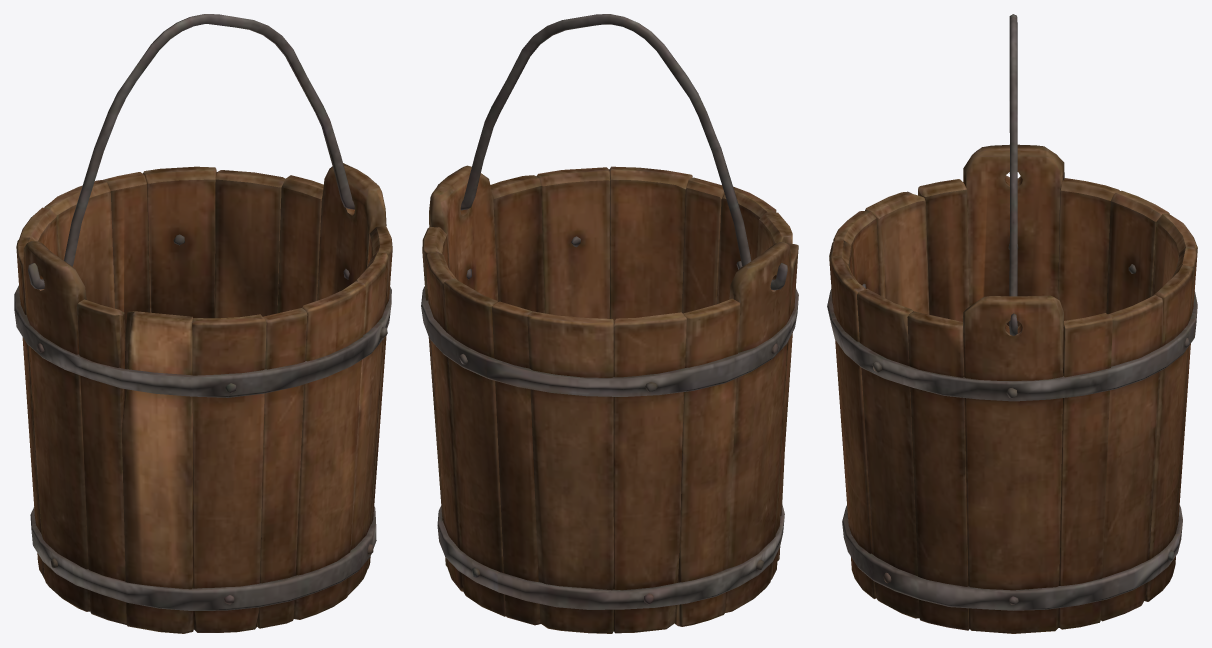
Rendered from wooden_bucket_01.glb.
3 views of the same model, side by side, from view 1: azimuth 30°, elevation 25°; view 2: azimuth 150°, elevation 25°; view 3: azimuth 270°, elevation 25° (orthographic).
Parts seen in each view (by area): view 1: wooden_bucket_01, wooden_bucket_01_handle; view 2: wooden_bucket_01, wooden_bucket_01_handle; view 3: wooden_bucket_01, wooden_bucket_01_handle.
Boxes of the visible parts, bbox=[...] form: wooden_bucket_01: bbox=[14, 163, 392, 633]; wooden_bucket_01_handle: bbox=[28, 14, 376, 289]; wooden_bucket_01: bbox=[421, 165, 798, 633]; wooden_bucket_01_handle: bbox=[437, 14, 787, 290]; wooden_bucket_01: bbox=[827, 144, 1197, 633]; wooden_bucket_01_handle: bbox=[1009, 14, 1017, 335].
Bounding box in the file's own units: 0.367 × 0.5499 × 0.3419.
Materials: 1 (1 with a texture image).
